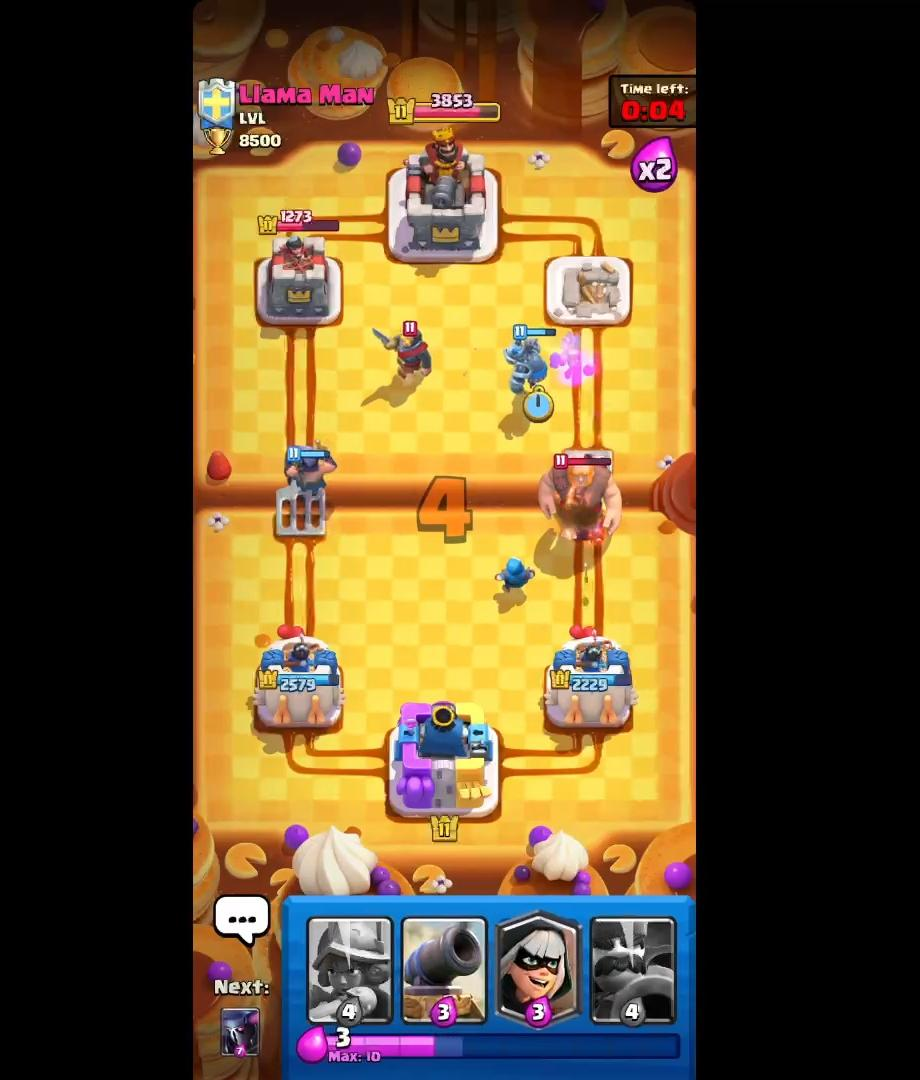Giant: (532, 446, 629, 549)
Knight: (369, 307, 445, 388)
